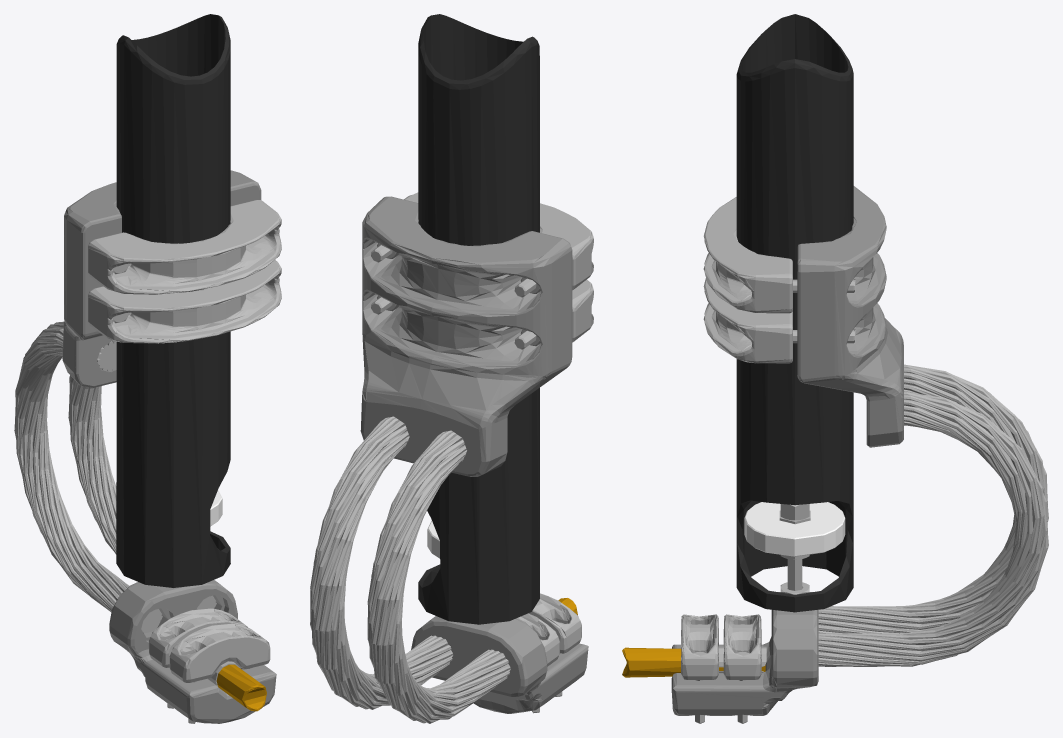
The picture shows the model from 3 angles, left to right: view 1: azimuth 30°, elevation 25°; view 2: azimuth 150°, elevation 25°; view 3: azimuth 270°, elevation 25°; orthographic projection. The views are drawn at different scales.
Parts seen in each view (by area): view 1: Gt7Sj3Sa.001, Gt7Sj3Sa, Gt7Sj3Sa.003, Gt7Sj3Sa.002, Gt7Sj3Sa.004; view 2: Gt7Sj3Sa.001, Gt7Sj3Sa.002, Gt7Sj3Sa, Gt7Sj3Sa.003; view 3: Gt7Sj3Sa.001, Gt7Sj3Sa, Gt7Sj3Sa.002, Gt7Sj3Sa.003, Gt7Sj3Sa.005, Gt7Sj3Sa.004.
Part boxes in pixels (x1=…): Gt7Sj3Sa.001: x1=116, y1=14, x2=230, y2=587; Gt7Sj3Sa: x1=14, y1=200, x2=281, y2=723; Gt7Sj3Sa.003: x1=109, y1=580, x2=276, y2=723; Gt7Sj3Sa.002: x1=62, y1=170, x2=261, y2=387; Gt7Sj3Sa.004: x1=216, y1=664, x2=266, y2=711; Gt7Sj3Sa.001: x1=418, y1=14, x2=539, y2=624; Gt7Sj3Sa.002: x1=360, y1=196, x2=572, y2=476; Gt7Sj3Sa: x1=310, y1=192, x2=593, y2=723; Gt7Sj3Sa.003: x1=411, y1=616, x2=588, y2=713; Gt7Sj3Sa.001: x1=736, y1=14, x2=853, y2=612; Gt7Sj3Sa: x1=681, y1=197, x2=1048, y2=723; Gt7Sj3Sa.002: x1=797, y1=186, x2=903, y2=447; Gt7Sj3Sa.003: x1=671, y1=592, x2=818, y2=715; Gt7Sj3Sa.005: x1=744, y1=502, x2=845, y2=556; Gt7Sj3Sa.004: x1=622, y1=647, x2=765, y2=677.
Size of the model in its own units: 0.4367 by 1.52 by 0.8765.
Materials: 6 (6 with a texture image).
